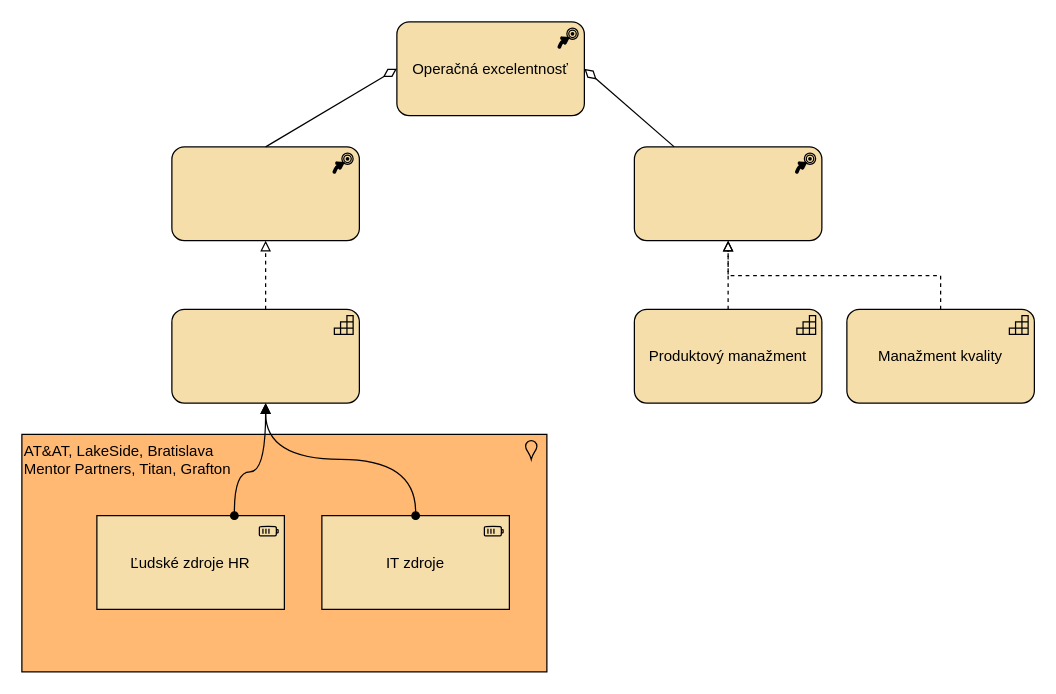
The diagram is 1056 pixels wide and 694 high, and some of its shapes have lost their labels. Each missing label, with the centre of its shape:
"Centralizácia IT systémov" goes at (265,193).
"IT manažment a prevádzka" goes at (265,355).
"Štandarizácia produktov" goes at (727,193).
